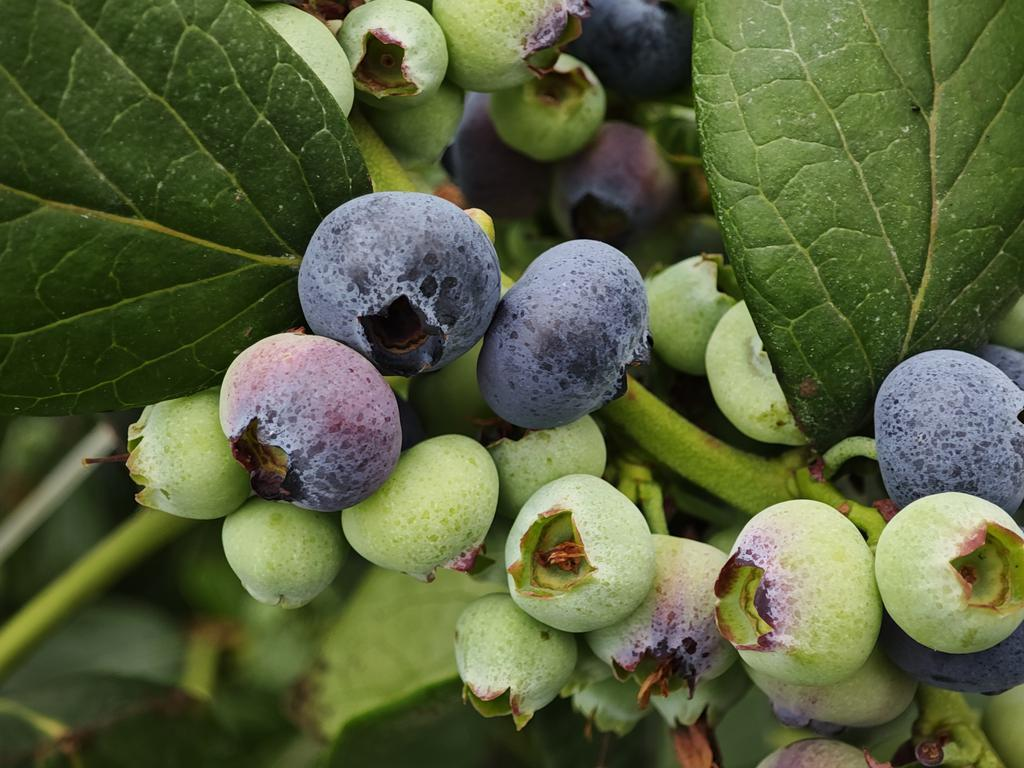RipeBlueBerry: (293, 187, 504, 381), (479, 235, 656, 432)
Semi-RipeBlueBerry: (219, 329, 405, 513)
UnripeBlueBerry: (709, 495, 883, 690), (499, 470, 661, 635)
